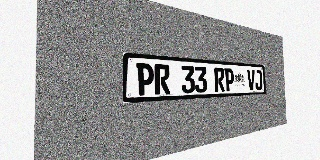3: (181, 65, 195, 93), (195, 66, 207, 93)
J: (255, 70, 262, 90)
P: (136, 63, 154, 95), (224, 68, 234, 91)
R: (154, 64, 170, 95), (214, 67, 225, 92)
V: (247, 69, 255, 90)
